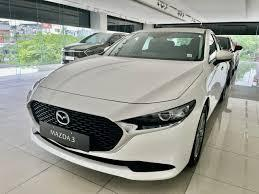mazda: (52, 107, 72, 129)
